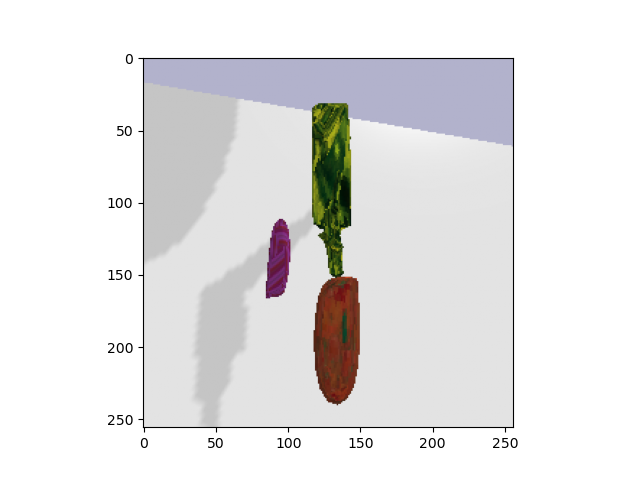v249b387_105: (261, 218, 297, 307)
v249b387_106: (312, 277, 368, 407)
v249b387_108: (310, 102, 367, 277)
